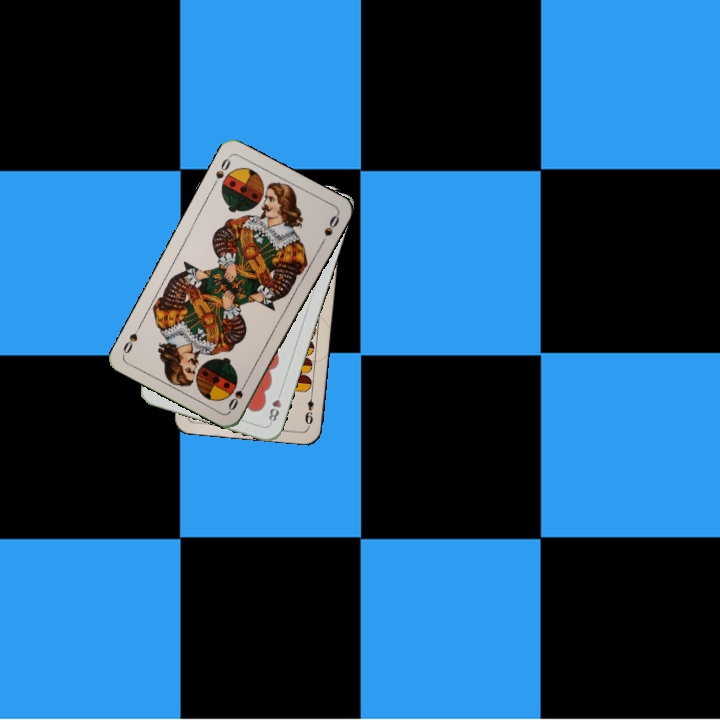E9: (301, 388, 316, 427)
H8: (264, 387, 284, 426)
SO: (224, 376, 250, 413), (208, 153, 233, 190)
